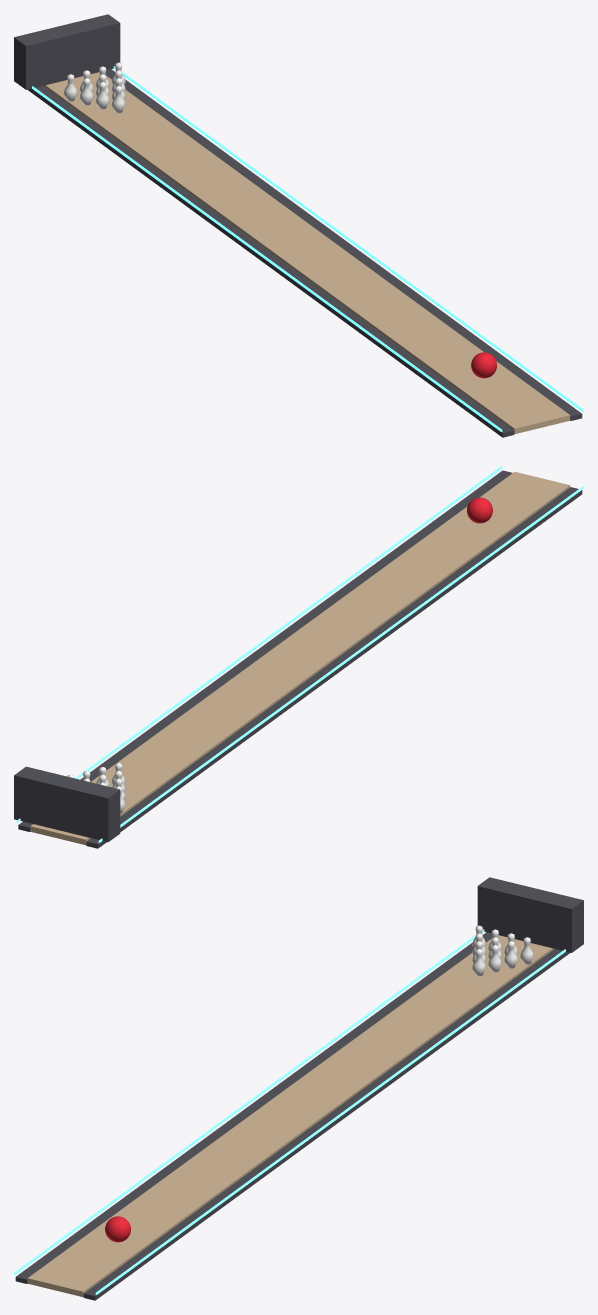
Rendered from bowling_strike.glb.
3 views of the same model, one above another, from view 1: azimuth 30°, elevation 25°; view 2: azimuth 150°, elevation 25°; view 3: azimuth 330°, elevation 25° (orthographic).
Parts seen in each view (by area): view 1: BowlingLane_Parquet, GutterChannel_-1, Lane_Backstop, GutterChannel_1, NeonRail_-1, NeonRail_1, BowlingBall; view 2: BowlingLane_Parquet, GutterChannel_-1, Lane_Backstop, GutterChannel_1, NeonRail_-1, NeonRail_1, BowlingBall; view 3: BowlingLane_Parquet, GutterChannel_1, Lane_Backstop, GutterChannel_-1, NeonRail_1, NeonRail_-1, BowlingBall.
Boxes of the visible parts, x1=… form: BowlingLane_Parquet: x1=43, y1=72, x2=570, y2=433; GutterChannel_-1: x1=27, y1=86, x2=514, y2=437; Lane_Backstop: x1=14, y1=14, x2=120, y2=89; GutterChannel_1: x1=105, y1=69, x2=582, y2=420; NeonRail_-1: x1=32, y1=86, x2=502, y2=431; NeonRail_1: x1=113, y1=66, x2=583, y2=411; BowlingBall: x1=471, y1=352, x2=496, y2=378; BowlingLane_Parquet: x1=30, y1=472, x2=570, y2=845; GutterChannel_-1: x1=86, y1=487, x2=582, y2=848; Lane_Backstop: x1=14, y1=766, x2=120, y2=842; GutterChannel_1: x1=18, y1=470, x2=512, y2=831; NeonRail_-1: x1=98, y1=486, x2=583, y2=842; NeonRail_1: x1=16, y1=466, x2=502, y2=822; BowlingBall: x1=467, y1=497, x2=492, y2=523; BowlingLane_Parquet: x1=27, y1=935, x2=554, y2=1296; GutterChannel_1: x1=83, y1=949, x2=570, y2=1300; Lane_Backstop: x1=477, y1=877, x2=583, y2=952; GutterChannel_-1: x1=15, y1=932, x2=492, y2=1283; NeonRail_1: x1=95, y1=949, x2=565, y2=1294; NeonRail_-1: x1=14, y1=929, x2=484, y2=1274; BowlingBall: x1=105, y1=1216, x2=130, y2=1242.
Bounding box in the file's own units: 1.8 × 0.91 × 16.
